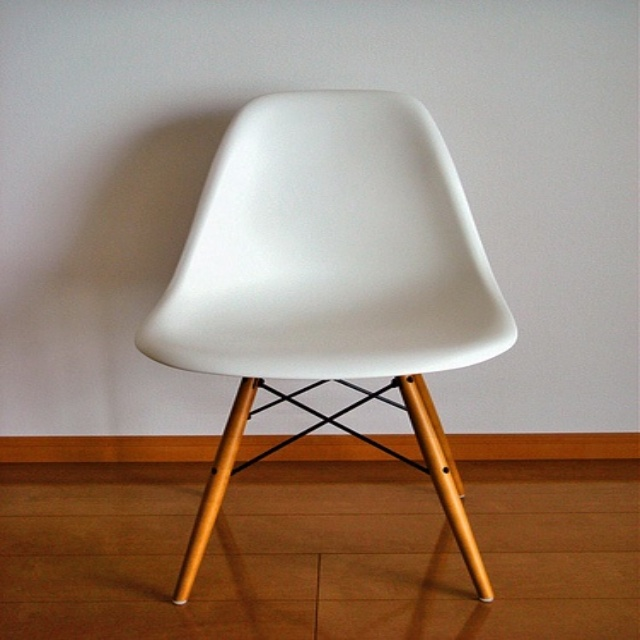obstacle: (137, 91, 515, 603)
